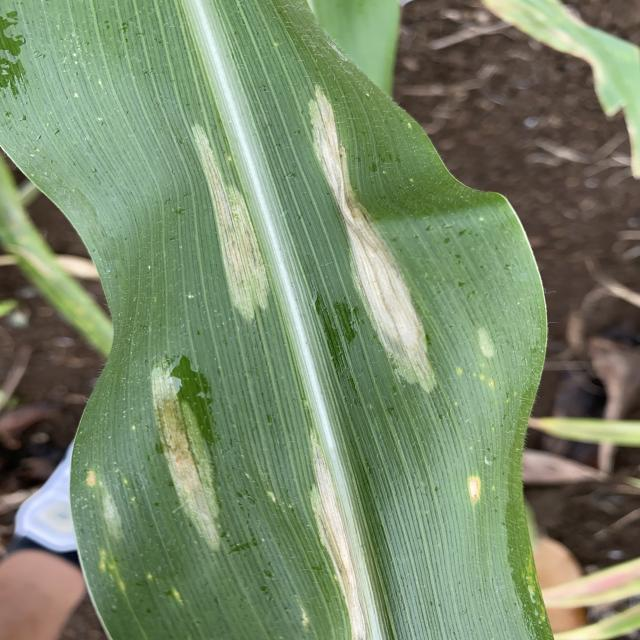Corn_Leaf_Blight: (68, 0, 554, 635)
